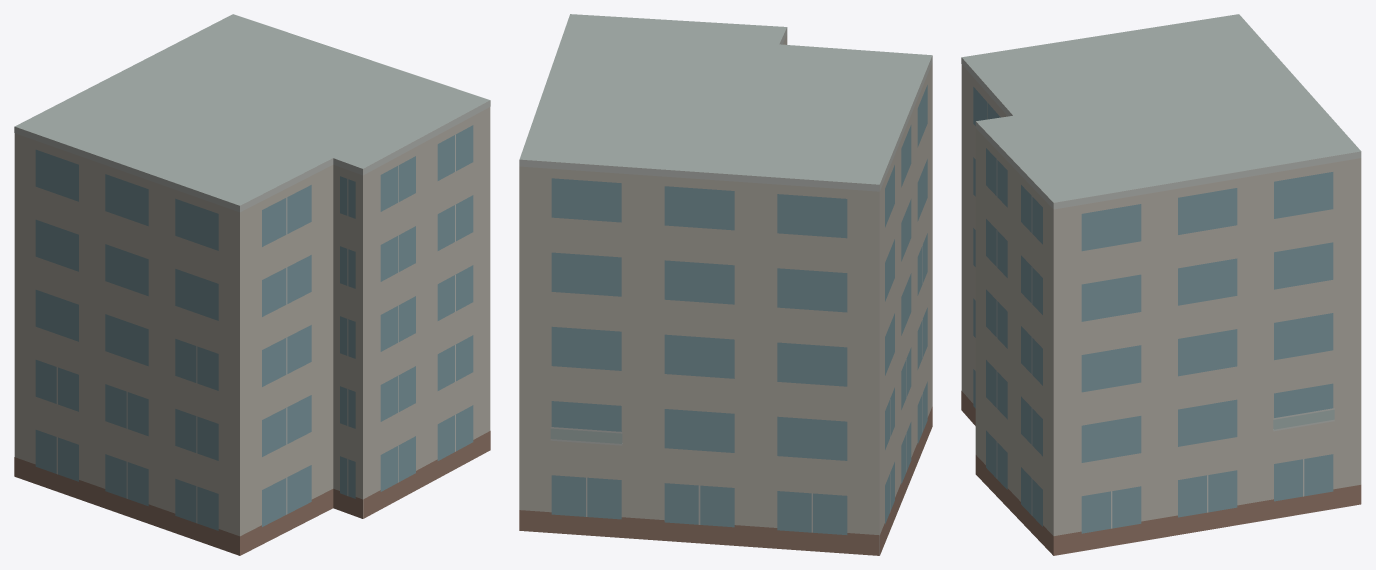
File: survey-upis-32852873.glb
3 views of the same model, side by side, from view 1: azimuth 30°, elevation 25°; view 2: azimuth 150°, elevation 25°; view 3: azimuth 270°, elevation 25° (orthographic). The views are drawn at different scales.
Parts seen in each view (by area): view 1: survey-upis-32852873.tmp; view 2: survey-upis-32852873.tmp; view 3: survey-upis-32852873.tmp.
Boxes of the visible parts, x1,y1,x2,y2 form: survey-upis-32852873.tmp: [14, 14, 490, 555]; survey-upis-32852873.tmp: [519, 14, 932, 555]; survey-upis-32852873.tmp: [961, 14, 1361, 555].
Size of the model in its own units: 14.93 by 13 by 13.36.
